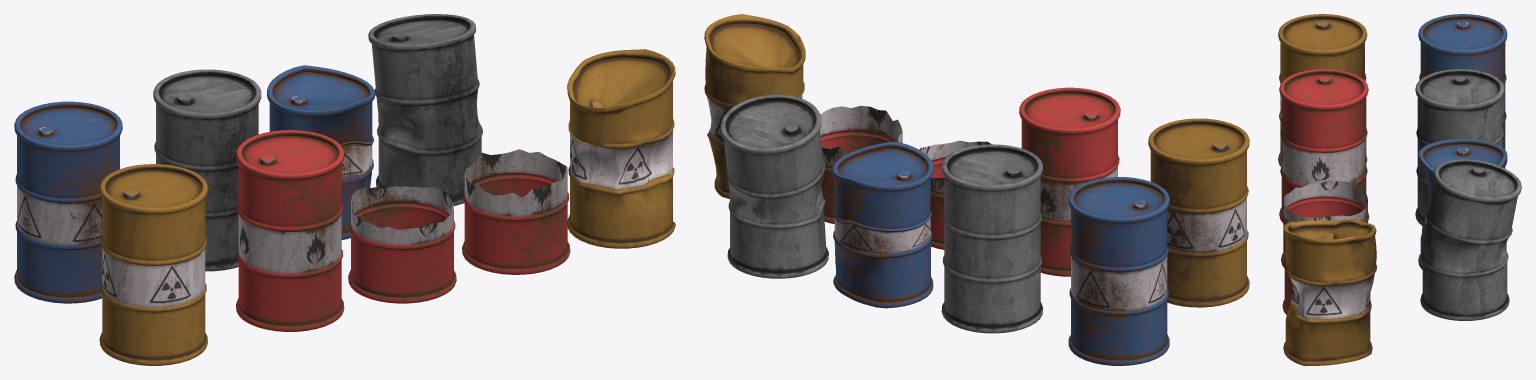
File: basrriles_colores.fbx
3 renders of one model, left to right at view 1: azimuth 30°, elevation 25°; view 2: azimuth 150°, elevation 25°; view 3: azimuth 270°, elevation 25°, orthographic. The views are drawn at different scales.
Parts seen in each view (by area): view 1: Cylinder, Cylinder.060, Cylinder.066, Cylinder.061, Cylinder.062, Cylinder.059, Cylinder.064, Cylinder.063, Cylinder.065; view 2: Cylinder.061, Cylinder.059, Cylinder.062, Cylinder, Cylinder.065, Cylinder.060, Cylinder.066, Cylinder.064, Cylinder.063; view 3: Cylinder.062, Cylinder.066, Cylinder.060, Cylinder.059, Cylinder.061, Cylinder, Cylinder.063, Cylinder.065, Cylinder.064.
Part boxes in pixels (box(x1,y1,x2,y2)): Cylinder: box(99, 164, 207, 365); Cylinder.060: box(236, 130, 344, 331); Cylinder.066: box(567, 49, 675, 248); Cylinder.061: box(14, 101, 122, 303); Cylinder.062: box(368, 14, 482, 205); Cylinder.059: box(153, 69, 261, 271); Cylinder.064: box(462, 149, 570, 274); Cylinder.063: box(348, 186, 456, 303); Cylinder.065: box(267, 65, 374, 239); Cylinder.061: box(1068, 177, 1169, 365); Cylinder.059: box(941, 144, 1042, 333); Cylinder.062: box(720, 94, 828, 278); Cylinder: box(1148, 118, 1249, 307); Cylinder.065: box(832, 142, 933, 308); Cylinder.060: box(1019, 87, 1120, 276); Cylinder.066: box(704, 14, 805, 199); Cylinder.064: box(820, 105, 902, 223); Cylinder.063: box(919, 140, 991, 249); Cylinder.062: box(1420, 159, 1521, 320); Cylinder.066: box(1283, 219, 1376, 365); Cylinder.060: box(1279, 69, 1368, 223); Cylinder.059: box(1415, 69, 1504, 225); Cylinder.061: box(1418, 14, 1507, 165); Cylinder: box(1278, 14, 1367, 166); Cylinder.063: box(1281, 181, 1369, 268); Cylinder.065: box(1418, 138, 1507, 269); Cylinder.064: box(1282, 236, 1371, 315).
Size of the model in its own units: 426 by 119 by 194.
